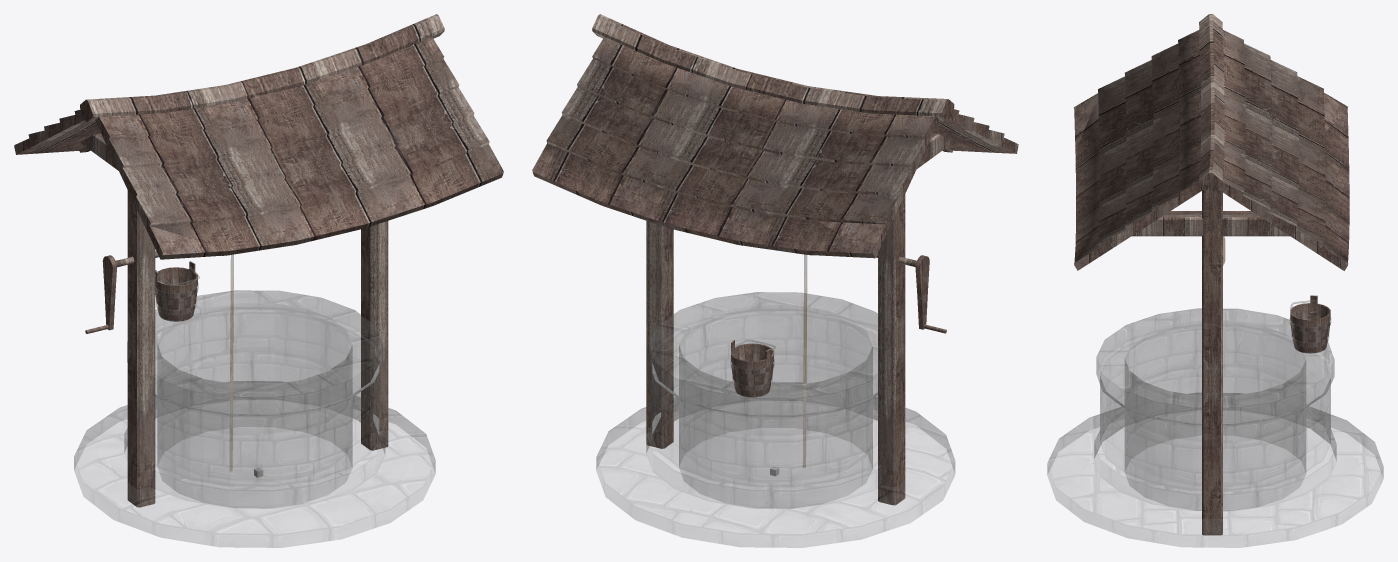
File: Well_1.glb
3 renders of one model, left to right at view 1: azimuth 30°, elevation 25°; view 2: azimuth 150°, elevation 25°; view 3: azimuth 270°, elevation 25°, orthographic. The views are drawn at different scales.
Visible parts, largest first — view 1: well; view 2: well; view 3: well.
Part boxes in pixels (box(x1,y1,x2,y2)): well: box(14, 14, 503, 547); well: box(532, 14, 1018, 547); well: box(1047, 14, 1383, 547).
Bounding box in the file's own units: 119 × 134 × 105.
Materials: 5 (4 with a texture image).
